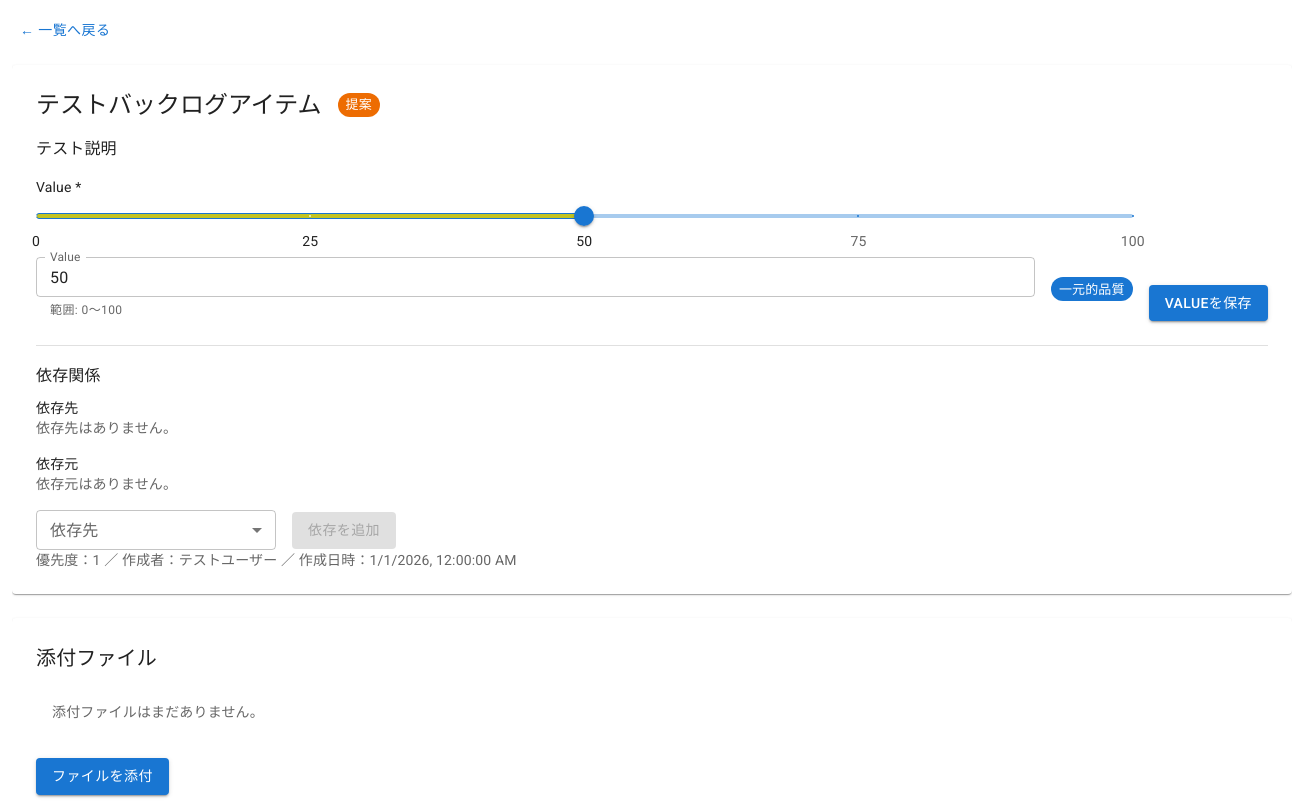
BacklogItemDetail › 品質カテゴリ表示 › Valueを76に変更したとき、リアルタイム表示が「魅力的品質」に切り替わる
Check: the slider is shown, box [574,206,594,226]
Clear the number field labelled "Value" at (535, 277), box [36,257,1035,297]
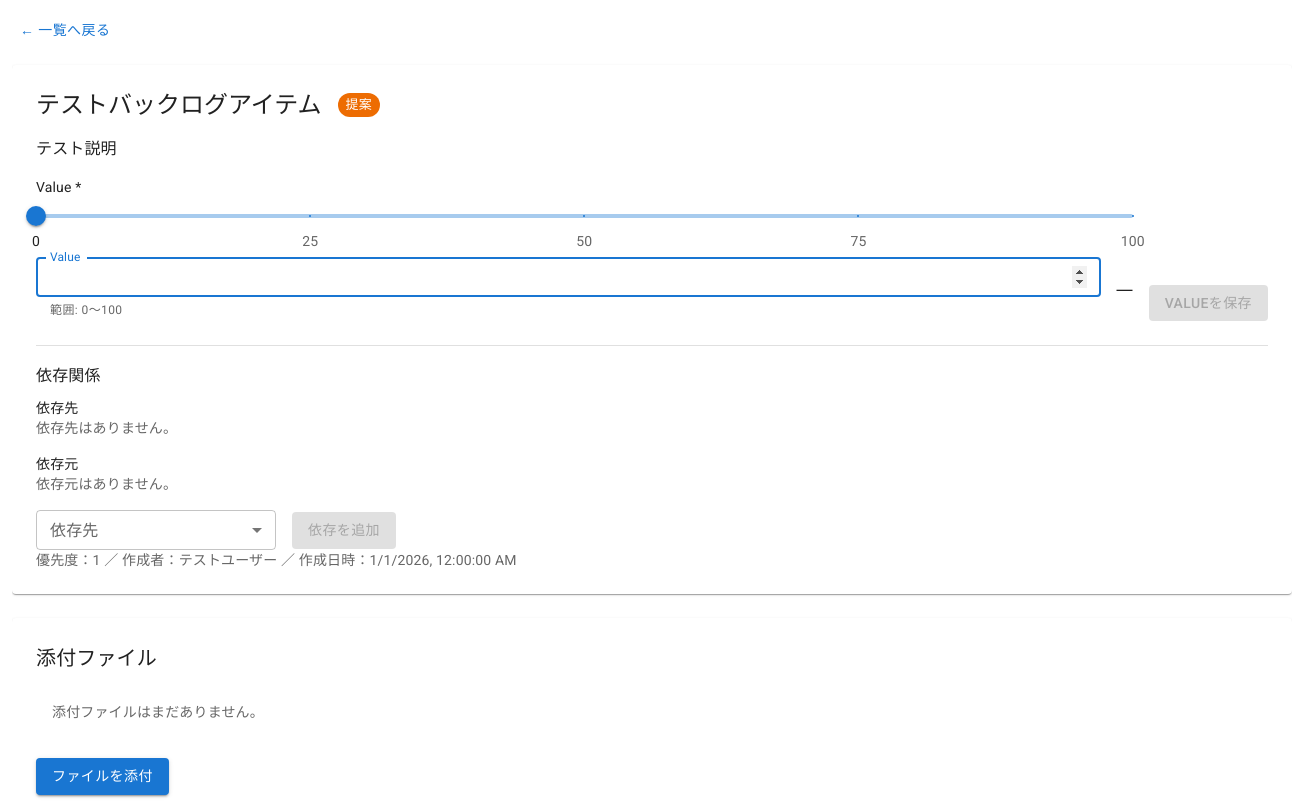
Type "76" into the number field labelled "Value" at (568, 277), box [36,257,1100,297]
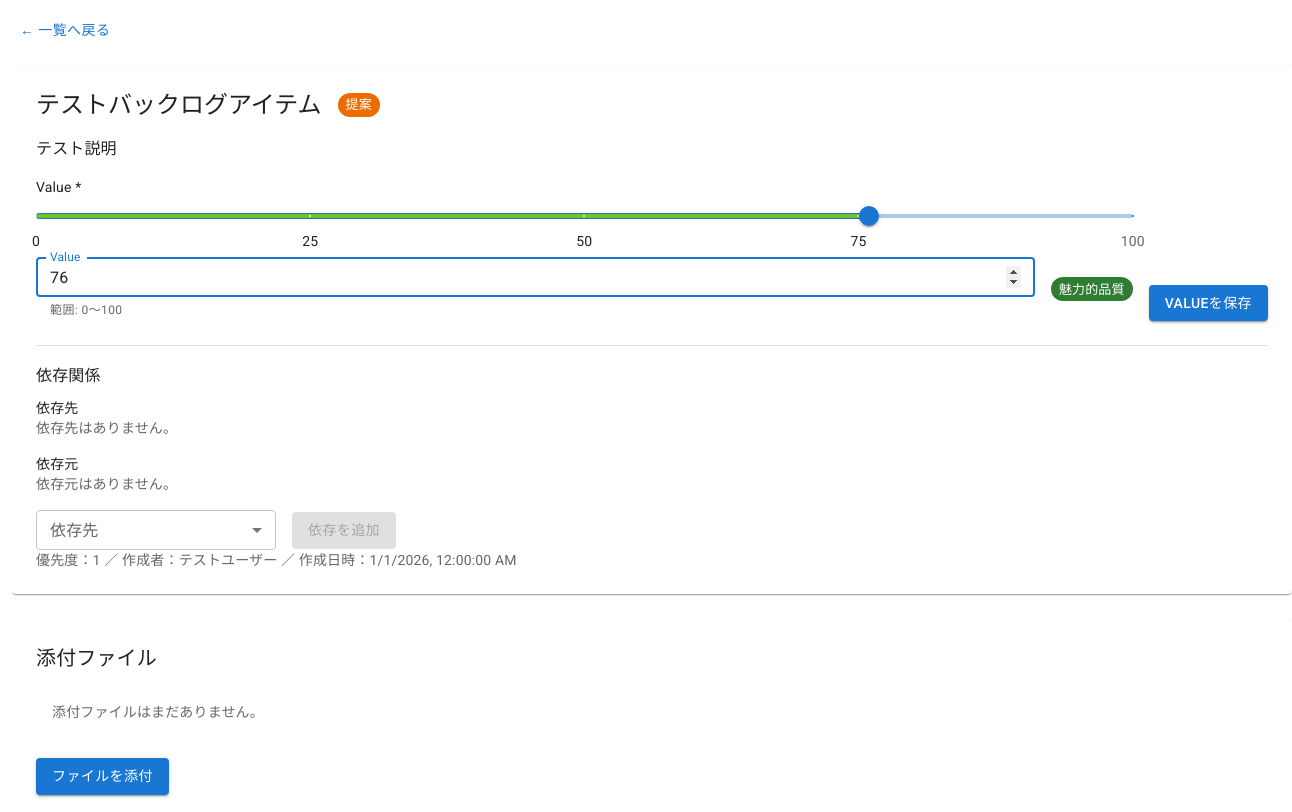
Check: the text "魅力的品質" is shown, box [1059,282,1125,297]
